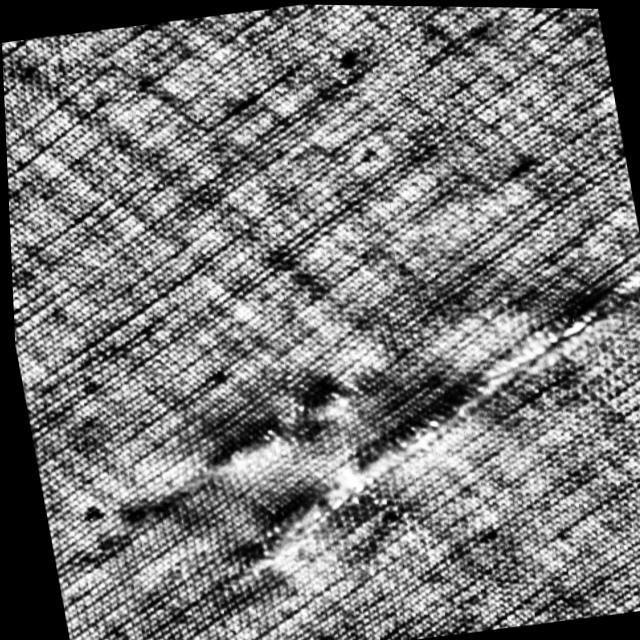Stitch: (176, 265, 640, 579), (189, 369, 363, 474)
